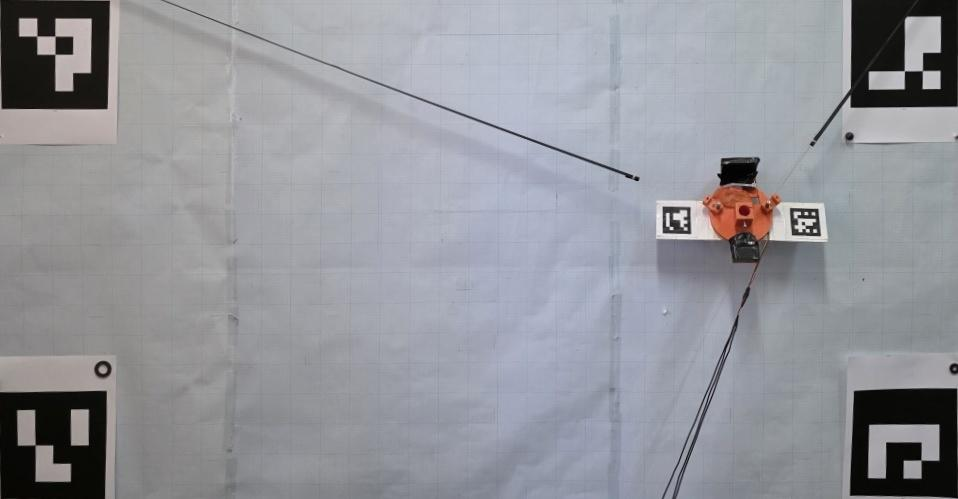robot: (703, 157, 782, 263)
